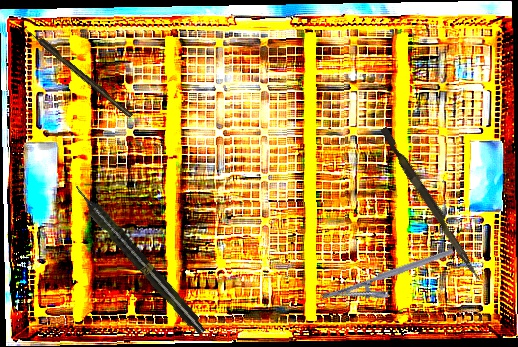Handpiece: (69, 181, 210, 338)
Hook Surgical: (23, 24, 134, 120)
Needle Holder: (320, 248, 461, 318)
Pusher: (376, 126, 487, 282)
